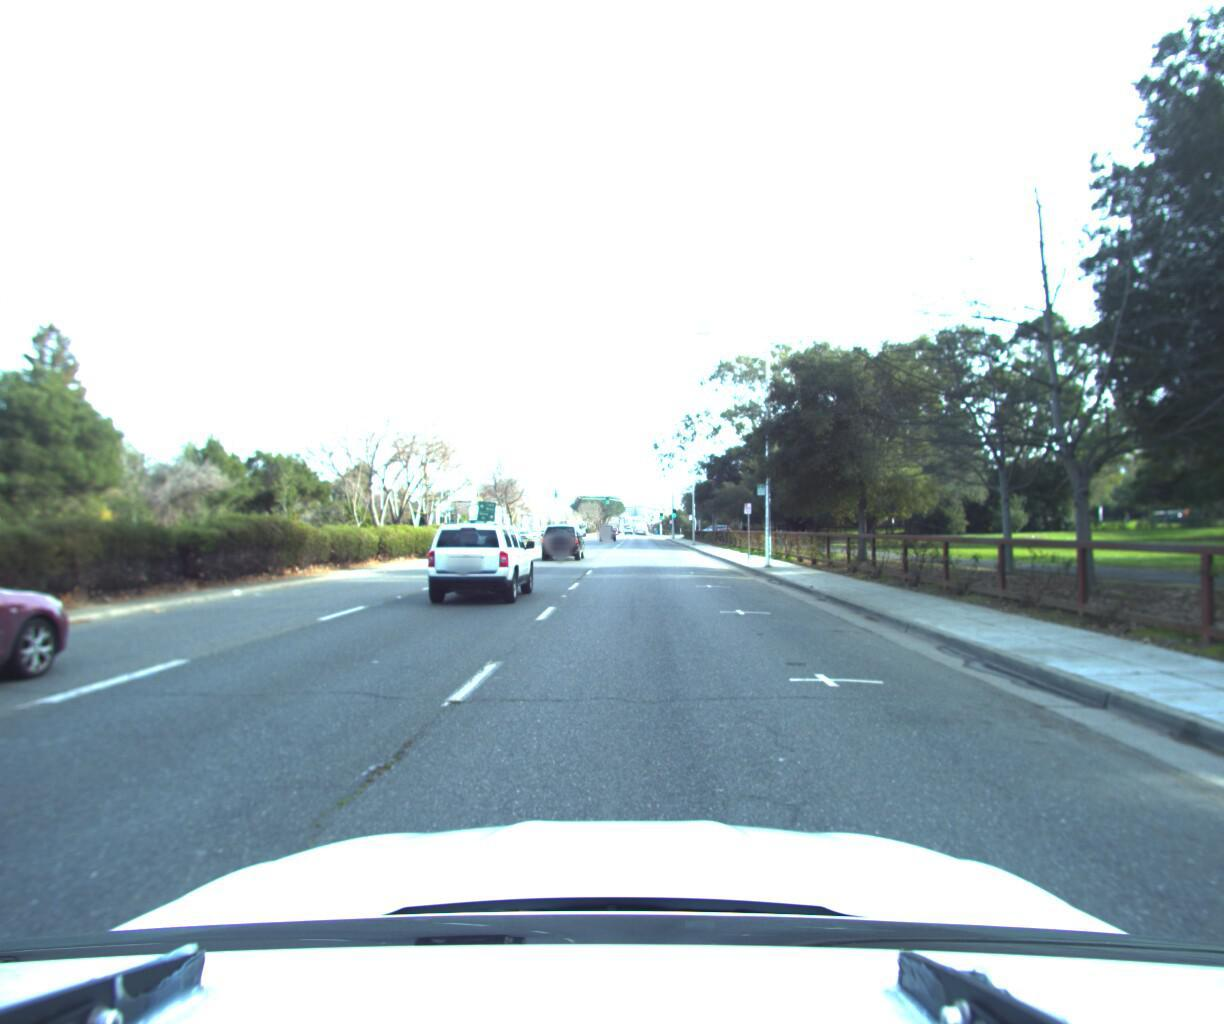car: (0, 533, 106, 779), (416, 516, 539, 611), (470, 521, 525, 561), (540, 521, 586, 560)
truck: (460, 504, 515, 544)
